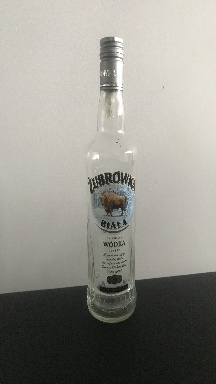butelka: (84, 33, 138, 325)
